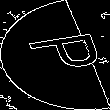P_E: (9, 31, 101, 79)
